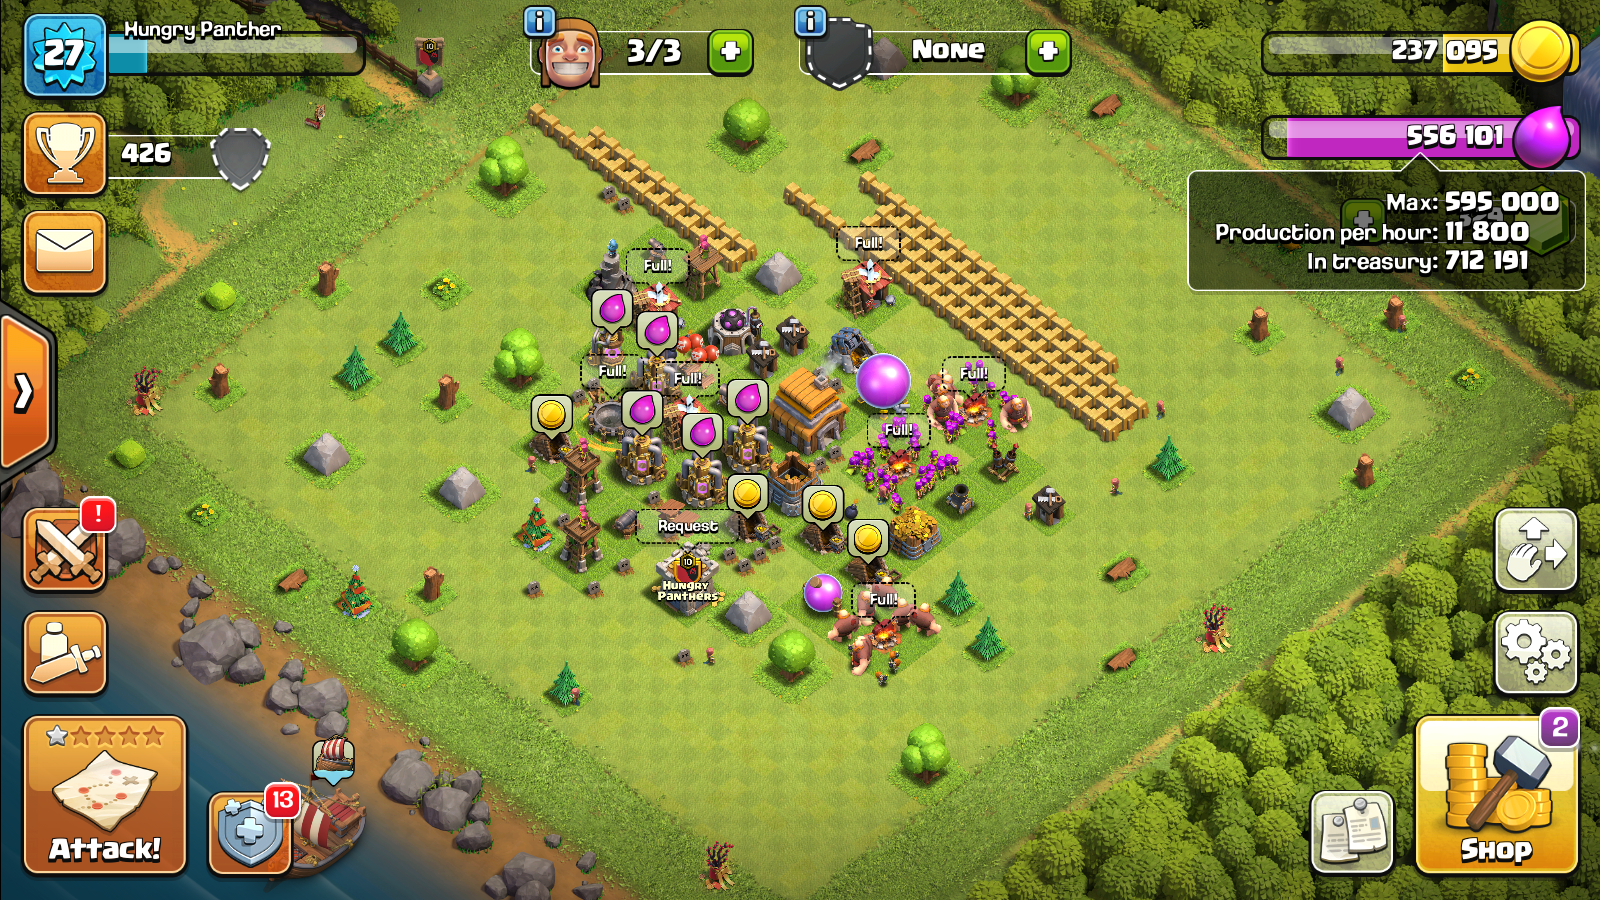army_menu: (27, 616, 109, 689)
elixer_collect: (620, 390, 665, 427), (727, 380, 766, 414), (593, 292, 633, 325), (684, 414, 721, 448), (637, 312, 676, 344)
gold_collect: (851, 518, 890, 556), (726, 474, 764, 513), (805, 488, 841, 524), (531, 397, 571, 427)
resource_details: (1190, 173, 1586, 291)
start_attack: (16, 715, 190, 873)
